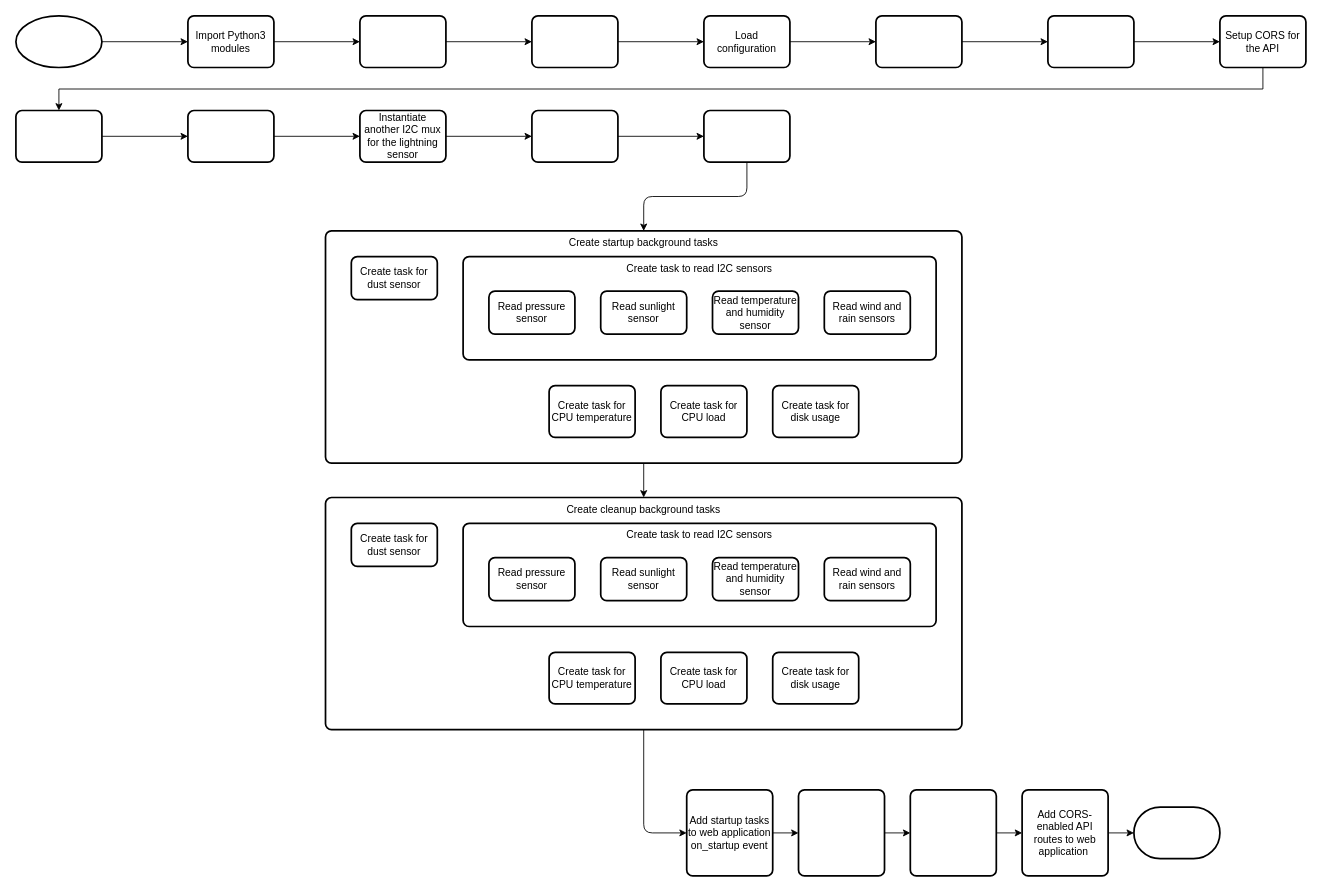
Some shapes in this 1321 by 891 pixel diagram are drawn without their labels. The centre of each missing label's shape, as x and y in pixels:
Add cleanup tasks to web application on_cleanup event: (x=841, y=832)
Add PostgreSQL connection pool to web application cleanup context: (x=953, y=832)
Create the PostgreSQL connection pool: (x=746, y=136)
Create the web application: (x=1090, y=41)
Import SwitchDoc Labs libraries: (x=402, y=41)
Instantiate the lightning sensor: (x=574, y=136)
Instantiate the main I2C mux: (x=58, y=136)
Instantiate the sunlight sensor: (x=230, y=136)
Parse command line arguments: (x=918, y=41)
Set the local timezone: (x=574, y=41)
Start: (x=58, y=41)
Start the web application: (x=1176, y=832)
